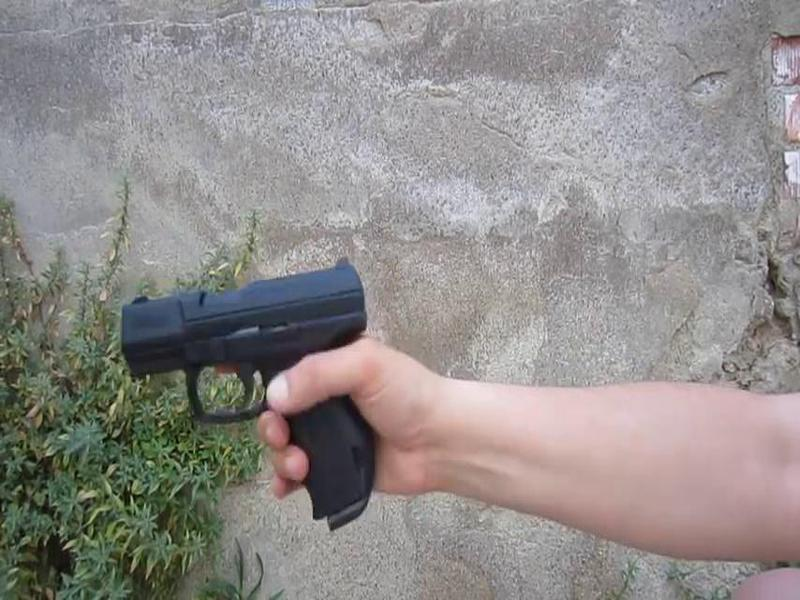Pistola: (105, 254, 413, 553)
